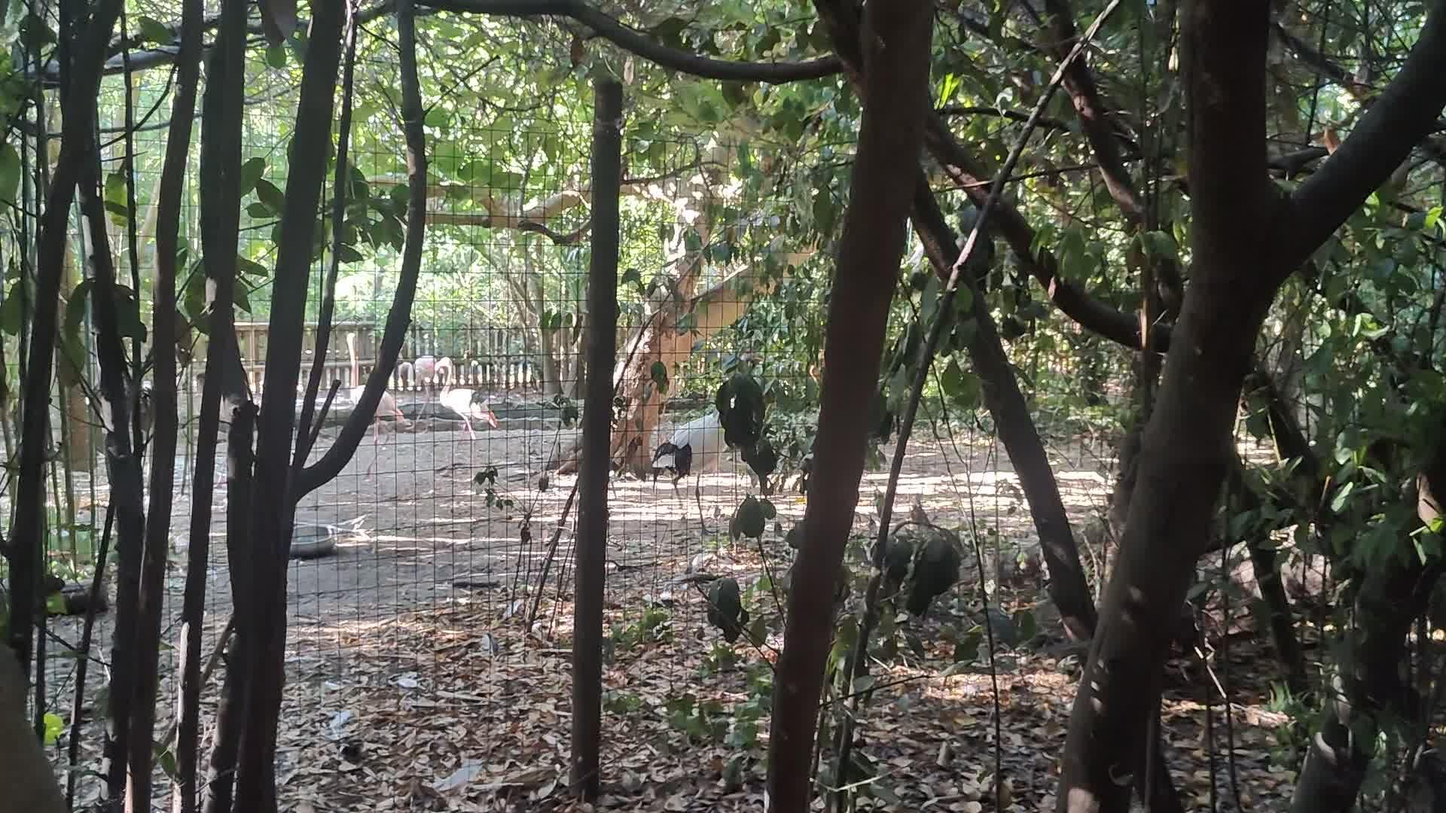apple: (651, 410, 728, 536), (346, 332, 405, 482), (435, 356, 498, 464), (398, 356, 444, 433)
